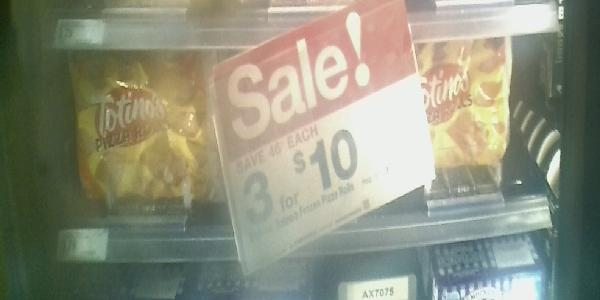icecream: (76, 51, 228, 202), (373, 39, 504, 169)
